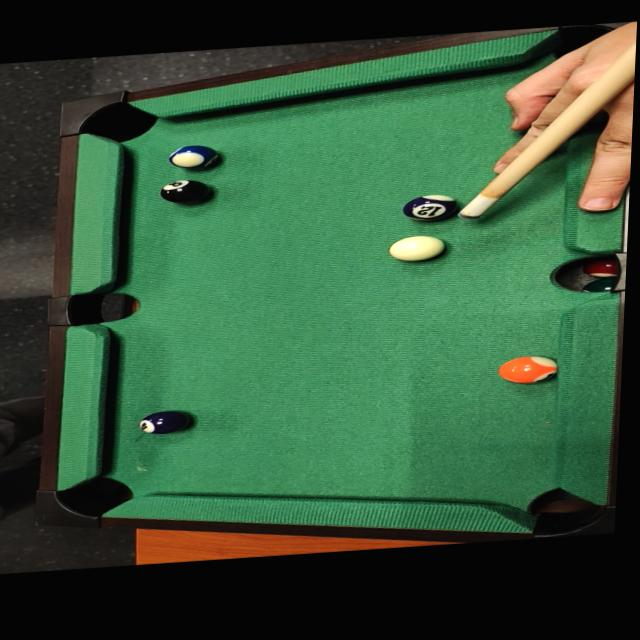cue ball: (387, 233, 447, 263)
other: (496, 353, 559, 386), (401, 191, 458, 225), (165, 141, 223, 171), (135, 407, 195, 436), (157, 177, 210, 206)
